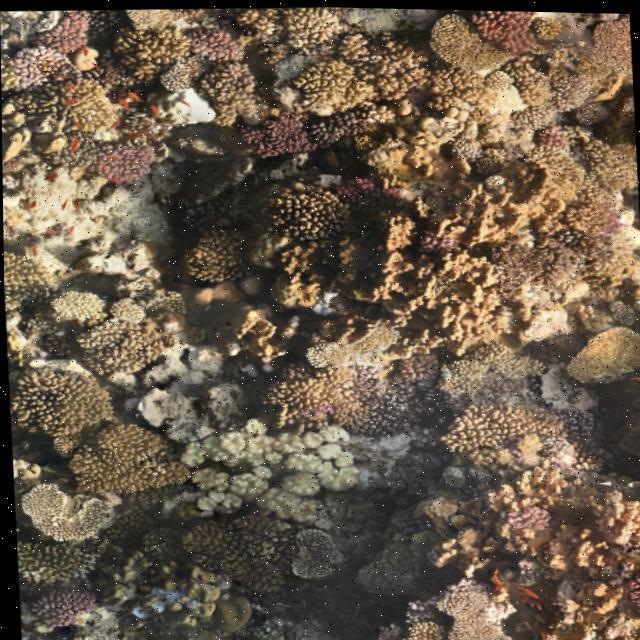Bleached Coral: (166, 412, 357, 522), (470, 597, 517, 624)
